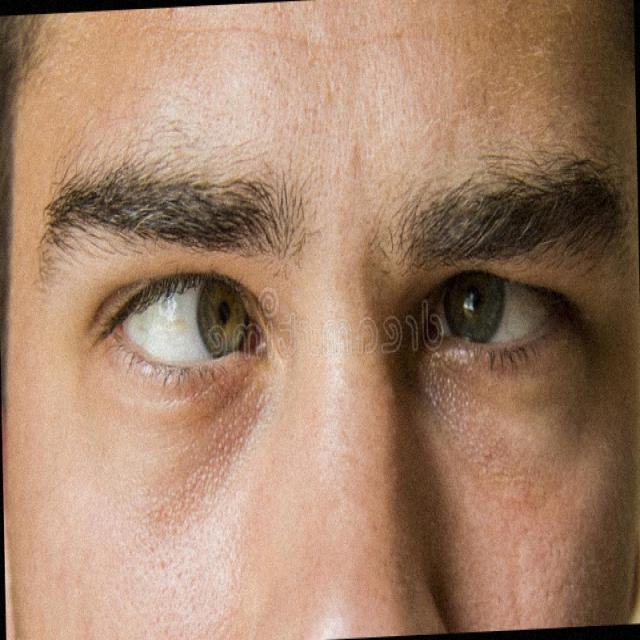Healthy-Eye: (414, 246, 598, 366)
Squint: (93, 245, 286, 397)
